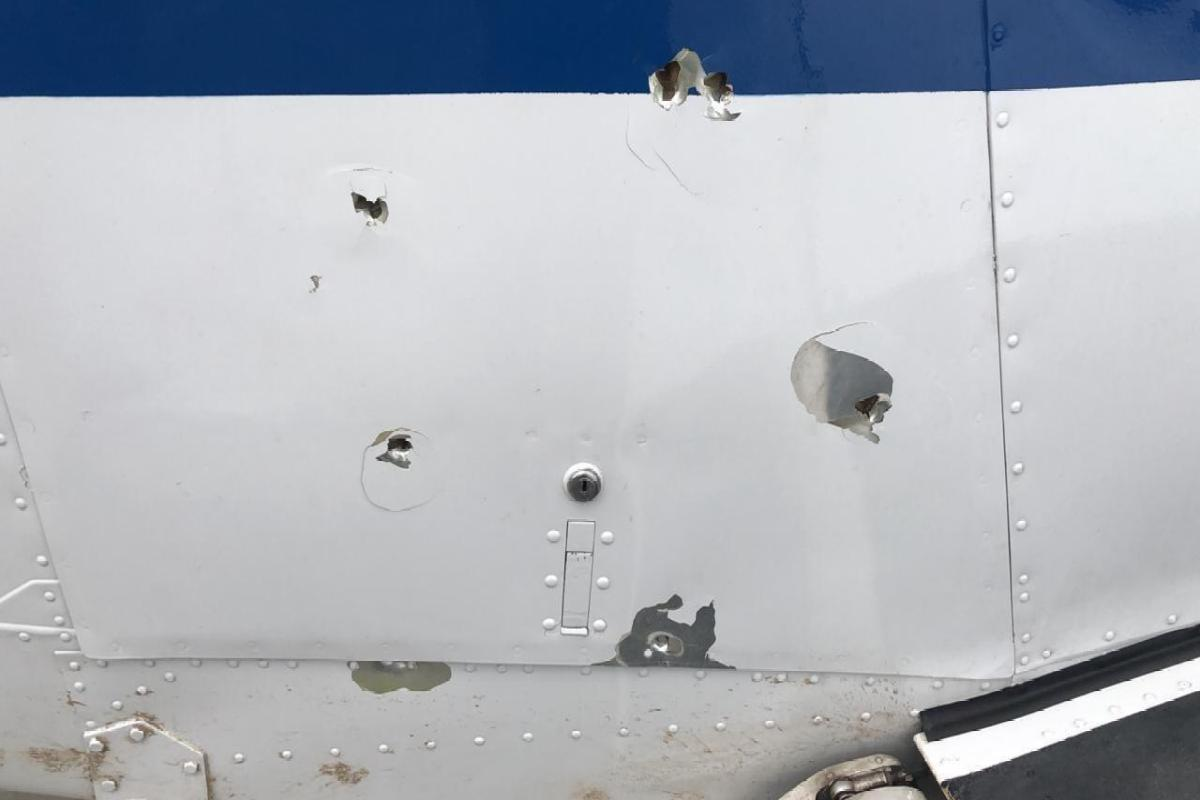Fuselage_damage: (790, 326, 892, 442), (617, 594, 731, 667), (648, 48, 728, 117), (349, 662, 451, 693), (352, 191, 386, 226), (382, 437, 412, 467)
